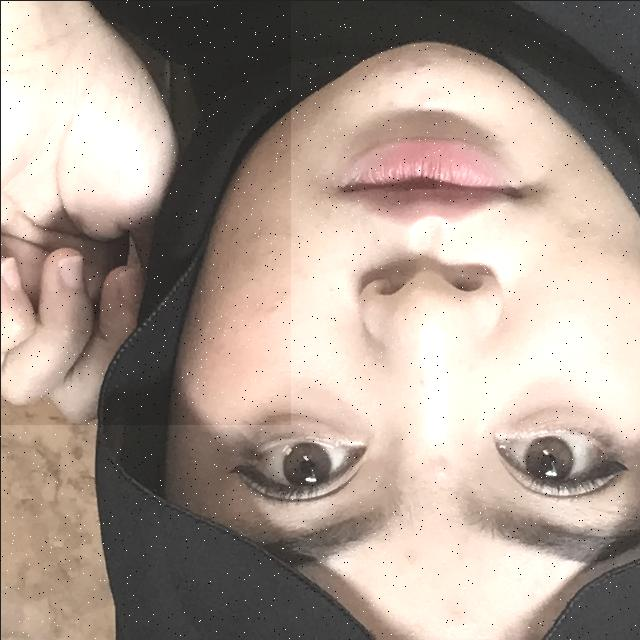ibu: (0, 0, 290, 424)
